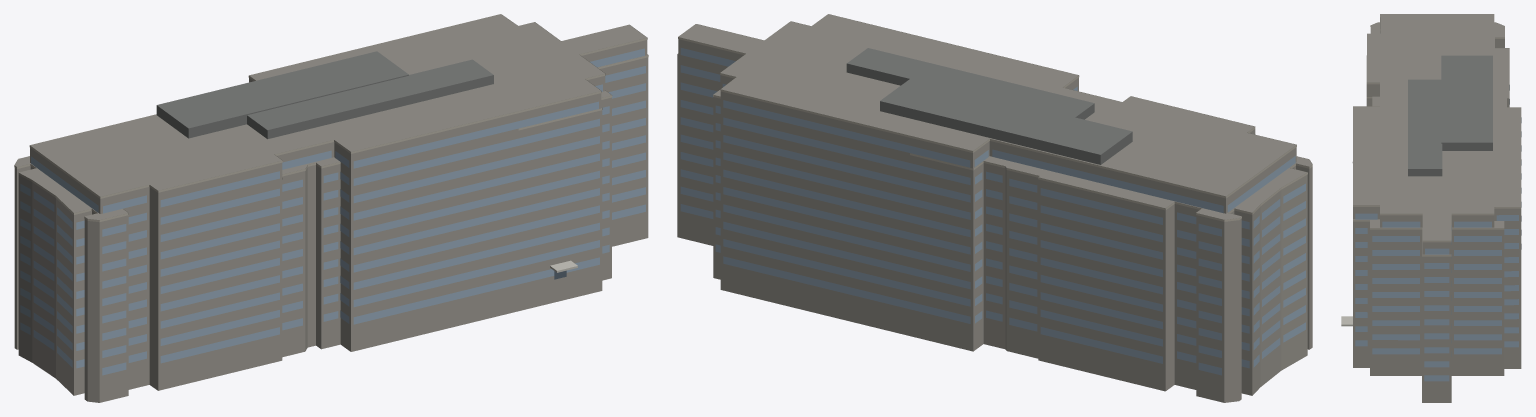
Rendered from uams-education-ii.glb.
3 renders of one model, left to right at view 1: azimuth 30°, elevation 25°; view 2: azimuth 150°, elevation 25°; view 3: azimuth 270°, elevation 25°, orthographic. The views are drawn at different scales.
Visible parts, largest first — view 1: uams_education_ii; view 2: uams_education_ii; view 3: uams_education_ii.
Part boxes in pixels (box(x1,y1,x2,y2)): uams_education_ii: box(14, 14, 648, 402); uams_education_ii: box(677, 14, 1312, 402); uams_education_ii: box(1341, 14, 1521, 402).
Size of the model in its own units: 143 by 48.54 by 46.56.
